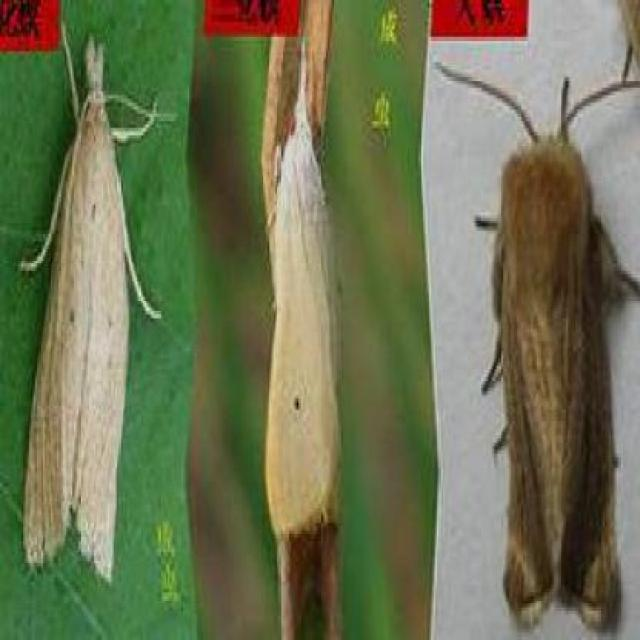stem-borer: (431, 47, 640, 636), (10, 21, 176, 586), (266, 43, 345, 537)
